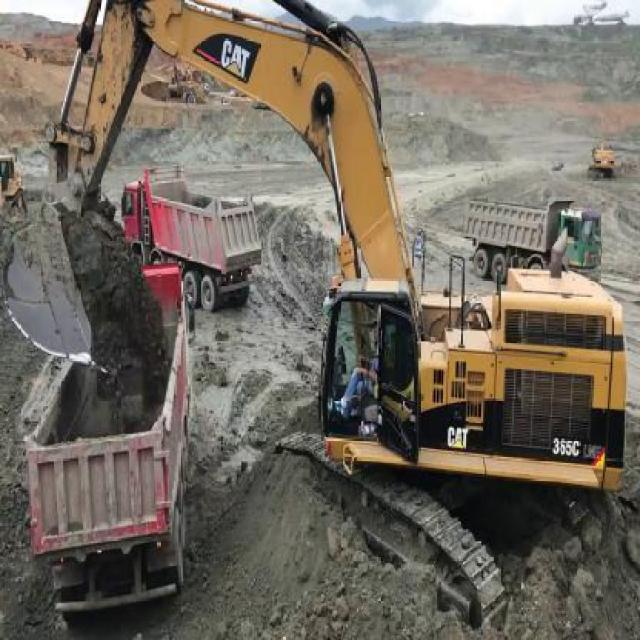dump_truck: (24, 275, 190, 634), (121, 175, 261, 310), (464, 200, 602, 280)
excavator: (0, 0, 627, 618), (588, 141, 614, 179)
